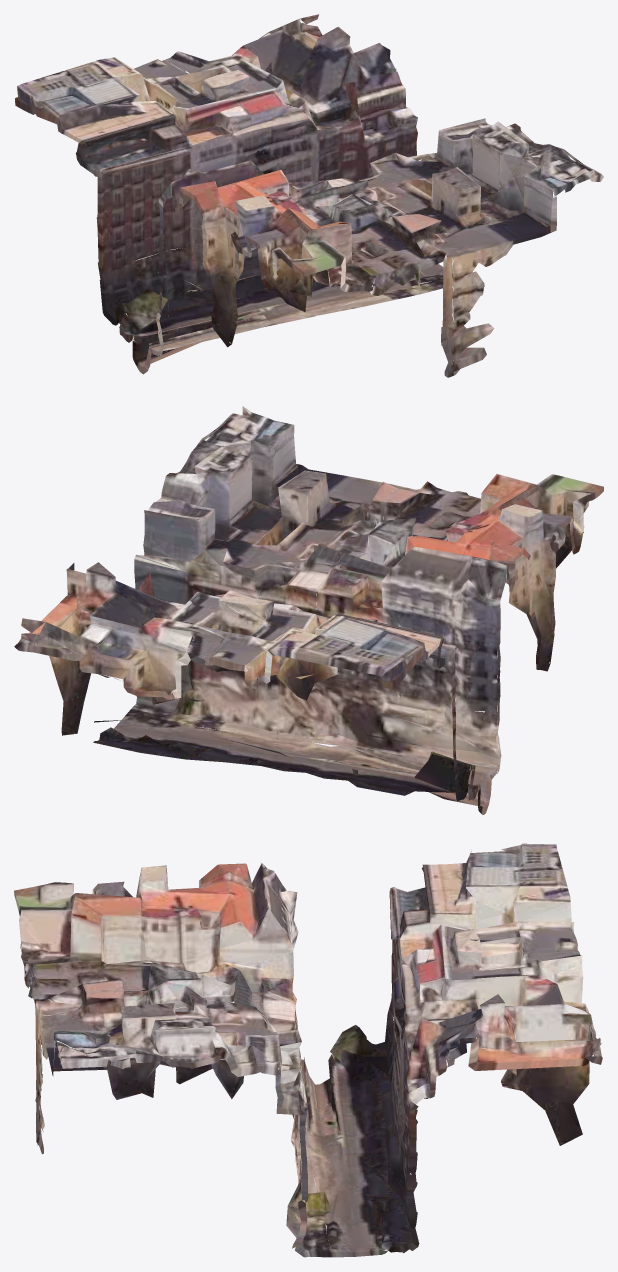
3 renders of one model, top to bottom at view 1: azimuth 30°, elevation 25°; view 2: azimuth 150°, elevation 25°; view 3: azimuth 270°, elevation 25°, orthographic. The views are drawn at different scales.
Parts seen in each view (by area): view 1: Mesh_0; view 2: Mesh_0; view 3: Mesh_0.
Part boxes in pixels (x1,y1,x2,y2): Mesh_0: (15, 14, 603, 377); Mesh_0: (14, 406, 603, 814); Mesh_0: (14, 843, 602, 1257).
Bounding box in the file's own units: 66.55 × 37.5 × 82.6.
2 materials, 2 textured.
